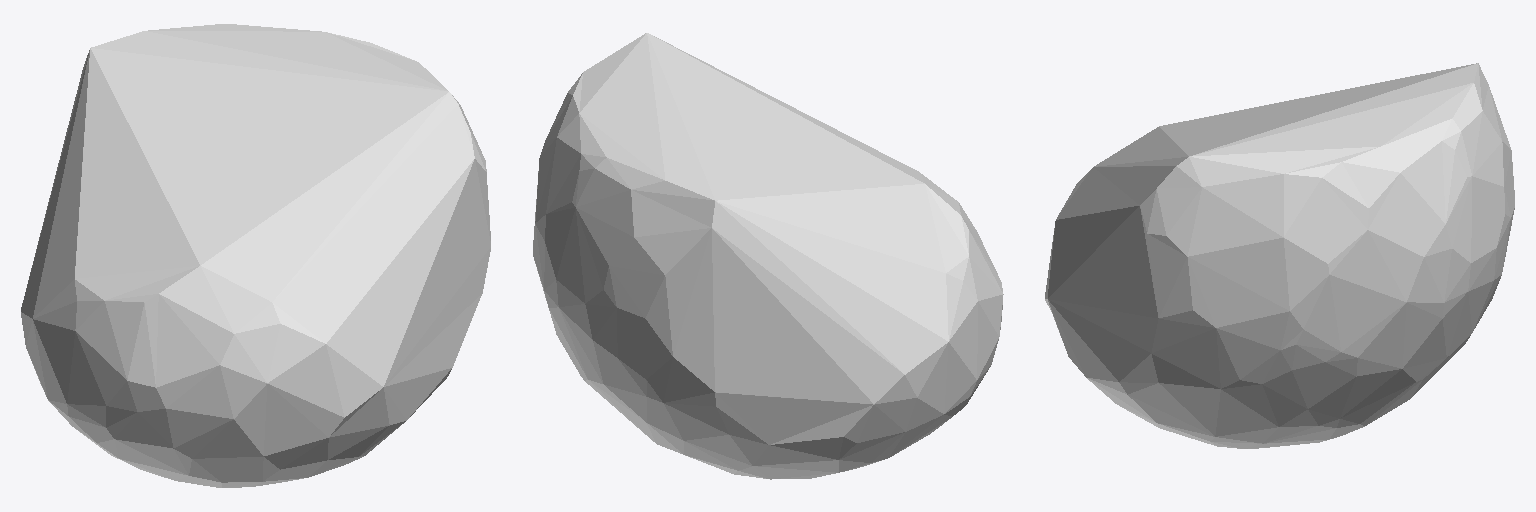
robot.urdf — talos_lleg_rom:
<?xml version="1.0" ?>
<robot name="talos_lleg_rom" xmlns:controller="http://playerstage.sourceforge.net/gazebo/xmlschema/#controller" xmlns:interface="http://playerstage.sourceforge.net/gazebo/xmlschema/#interface" xmlns:sensor="http://playerstage.sourceforge.net/gazebo/xmlschema/#sensor" xmlns:xacro="http://ros.org/wiki/xacro">

  <link name="torso_2_link">
    <inertial>
      <origin rpy="0.00000 0.00000 0.00000" xyz="-0.04551 -0.00053 0.16386"/>
      <mass value="17.55011"/>
      <inertia ixx="0.37376900000" ixy="0.00063900000" ixz="0.01219600000" iyy="0.24790200000" iyz="0.00000700000" izz="0.28140400000"/>
    </inertial>
  </link>
  <!--************************-->
  <!--        TORSO_1  (PAN)  -->
  <!--************************-->
  <link name="torso_1_link">
    <inertial>
      <origin rpy="0.00000 0.00000 0.00000" xyz="0.00013 -0.00001 -0.01306"/>
      <mass value="3.02433"/>
      <inertia ixx="0.00759400000" ixy="0.00000100000" ixz="-0.00004800000" iyy="0.00429200000" iyz="-0.00000100000" izz="0.00749700000"/>
    </inertial>
  </link>
  <joint name="torso_1_joint" type="revolute">
    <parent link="base_link"/>
    <child link="torso_1_link"/>
    <origin rpy="0.0 0.0 0.0" xyz="0.0 0.0 0.0722"/>
    <axis xyz="0 0 1"/>
    <limit effort="78.0" lower="-1.25663706144" upper="1.25663706144" velocity="5.4"/>
  </joint>
  <!--************************-->
  <!--        BASE_LINK       -->
  <!--************************-->
  <link name="base_link">
    <inertial>
      <origin rpy="0.00000 0.00000 0.00000" xyz="-0.08222 0.00838 -0.07261"/>
      <mass value="13.53810"/>
      <inertia ixx="0.06989000000" ixy="-0.00011700000" ixz="0.00023000000" iyy="0.03998200000" iyz="-0.00132500000" izz="0.08234500000"/>
    </inertial>
    <visual>
      <origin rpy="0 0 0" xyz="0 0 0"/>
      <geometry>
        <mesh filename="package://talos-rbprm/meshes/talos_lleg_rom.dae" scale="1 1 1"/>
      </geometry>
      <material name="LightGrey"/>
    </visual>
    <collision>
      <origin rpy="0 0 0" xyz="0 0 0"/>
      <geometry>
        <mesh filename="package://talos-rbprm/meshes/talos_lleg_rom.stl" scale="1 1 1"/>
      </geometry>
    </collision>
  </link>
  <joint name="torso_2_joint" type="revolute">
    <parent link="torso_1_link"/>
    <child link="torso_2_link"/>
    <origin rpy="0.0 0.0 0.0" xyz="0.0 0.0 0.0"/>
    <axis xyz="0 1 0"/>
    <limit effort="78.0" lower="-0.226892802759" upper="0.733038285838" velocity="5.4"/>
  </joint>
  <!-- define global properties -->
  <!-- <xacro:property name="M_PI" value="3.1415926535897931" /> -->
  <!-- Materials for visualization -->
  <material name="Blue">
    <color rgba="0.0 0.0 0.8 1.0"/>
  </material>
  <material name="Green">
    <color rgba="0.0 0.8 0.0 1.0"/>
  </material>
  <material name="Grey">
    <color rgba="0.7 0.7 0.7 1.0"/>
  </material>
  <material name="LightGrey">
    <color rgba="0.9 0.9 0.9 1.0"/>
  </material>
  <material name="DarkGrey">
    <color rgba="0.2 0.2 0.2 1.0"/>
  </material>
  <material name="Red">
    <color rgba="0.8 0.0 0.0 1.0"/>
  </material>
  <material name="White">
    <color rgba="1.0 1.0 1.0 1.0"/>
  </material>
  <material name="Orange">
    <color rgba="1.0 0.5 0.0 1.0"/>
  </material>
</robot>

--- What the picture shows (computed from the rendered views, not written in the file) ---
3 views of the same robot in one strip: view 1: azimuth 30°, elevation 25°; view 2: azimuth 150°, elevation 25°; view 3: azimuth 270°, elevation 25° (orthographic).
Robot: talos_lleg_rom — 3 links, 2 joints (2 revolute); root link base_link; default pose: every joint at zero.
Links seen in each view (by area): view 1: base_link; view 2: base_link; view 3: base_link.
Boxes of the visible links, box(x1,y1,x2,y2) form: base_link: box(21, 24, 490, 487); base_link: box(533, 33, 1003, 479); base_link: box(1045, 63, 1514, 448).
Size in the robot's own frame: 1.47 by 1.49 by 1.23 metres.
1 mesh visuals loaded from 1 distinct referenced files (1 Collada DAE).